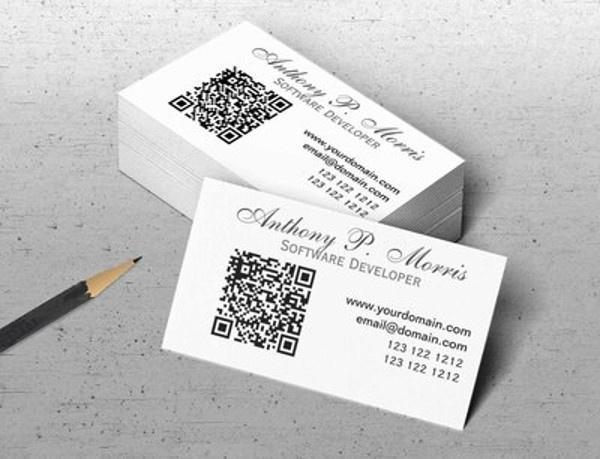qr_code: (211, 248, 317, 357), (168, 66, 293, 144)
